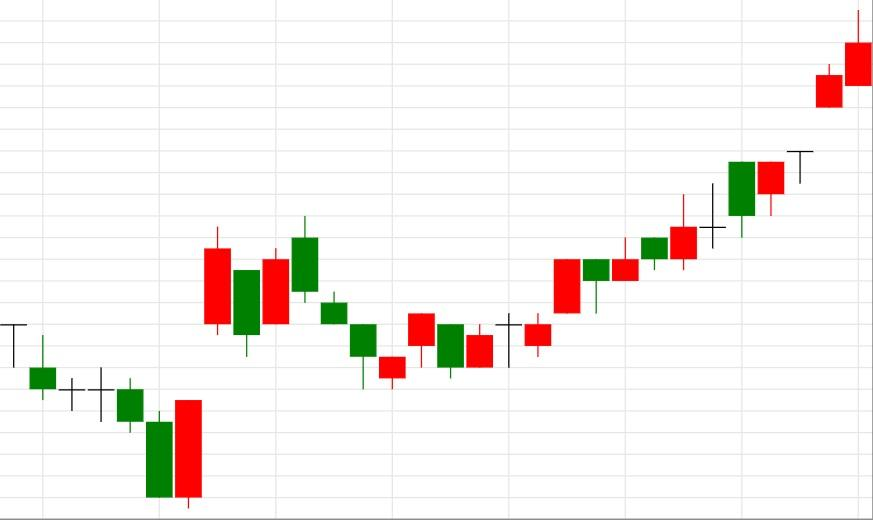bullish_engulfing_rise: (0, 323, 204, 510)
three_black_crows_fall: (175, 216, 378, 510)
